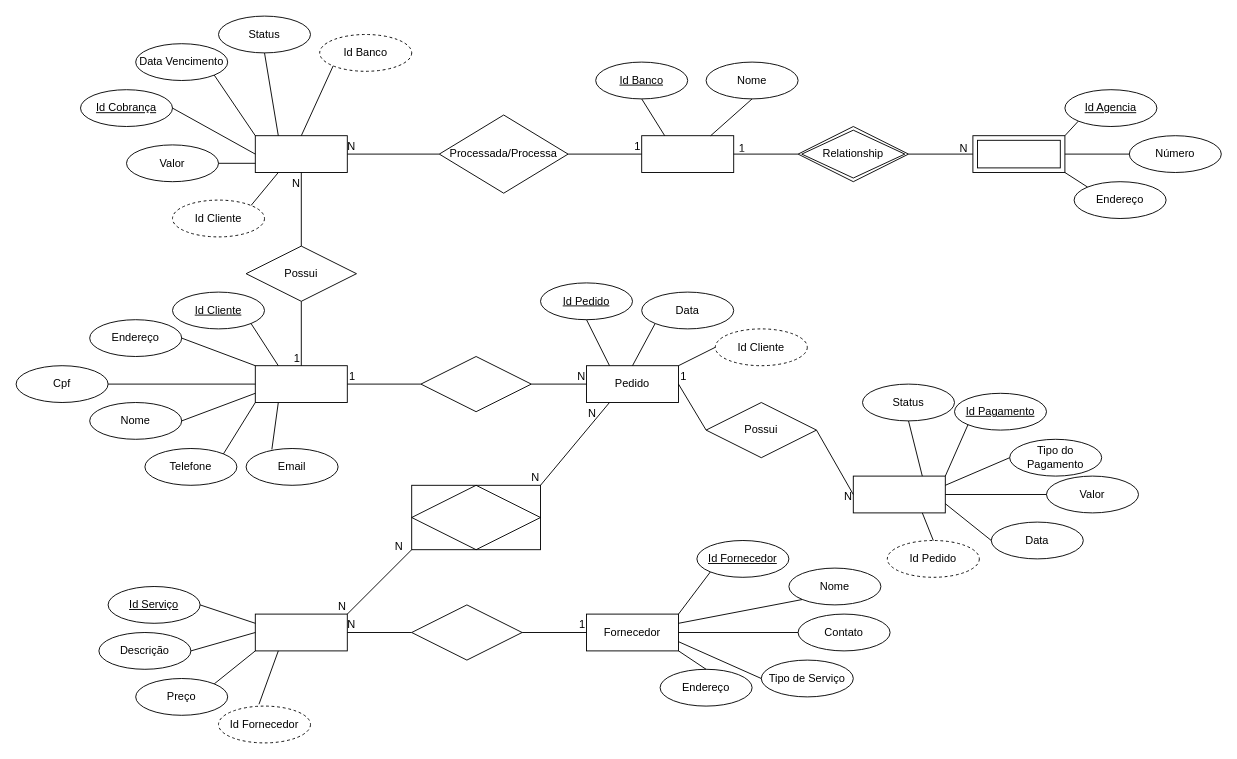
The diagram is 1237 pixels wide and 759 high, and some of its shapes have lost their labels. Here are the shapes that lost their labels. From the top down, the box of each, then its label:
(254, 135, 347, 172): Cobrança
(641, 135, 734, 172): Banco
(972, 135, 1065, 172): Agência
(254, 365, 347, 402): Cliente
(420, 356, 531, 412): Realiza/Pertence
(852, 475, 945, 513): Pagamento
(411, 484, 540, 550): Item_Pedido
(254, 613, 347, 651): Serviço
(411, 604, 522, 660): Oferecido/Oferece
